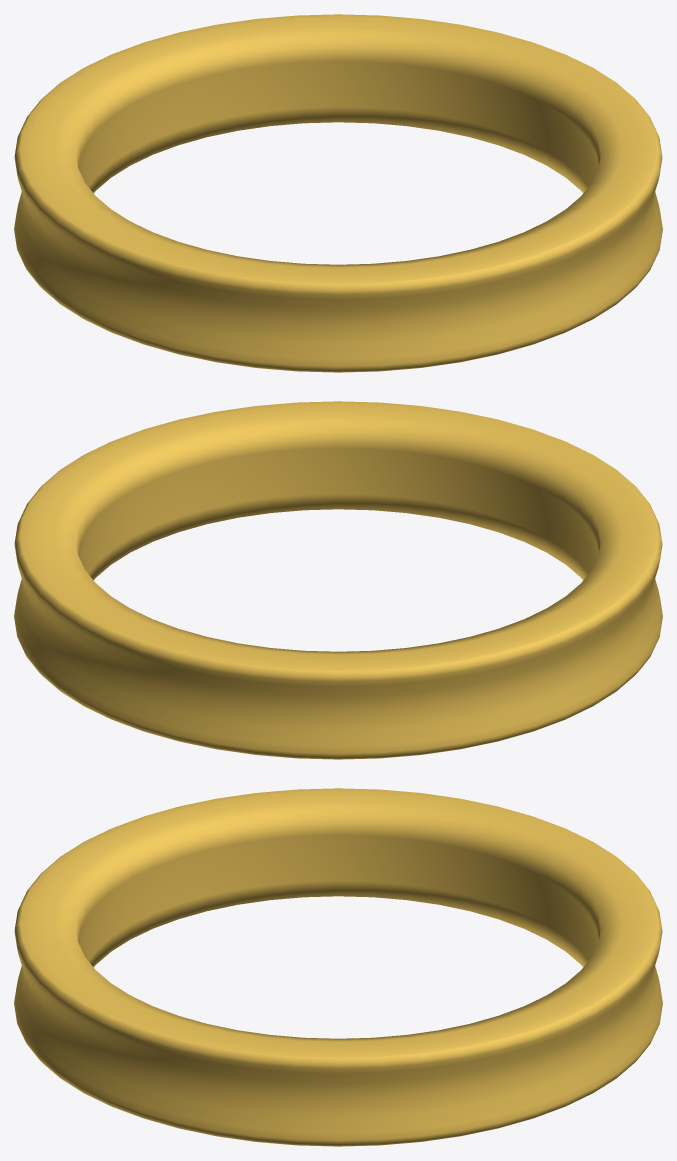
File: anneau.glb
3 renders of one model, top to bottom at view 1: azimuth 30°, elevation 25°; view 2: azimuth 150°, elevation 25°; view 3: azimuth 270°, elevation 25°, orthographic.
Visible parts, largest first — view 1: pDisc1; view 2: pDisc1; view 3: pDisc1.
Part boxes in pixels (left/top/right/bottom): pDisc1: left=14, top=14, right=662, bottom=372; pDisc1: left=14, top=401, right=662, bottom=759; pDisc1: left=14, top=788, right=662, bottom=1146.
Bounding box in the file's own units: 0.0254 × 0.00393 × 0.0254.
